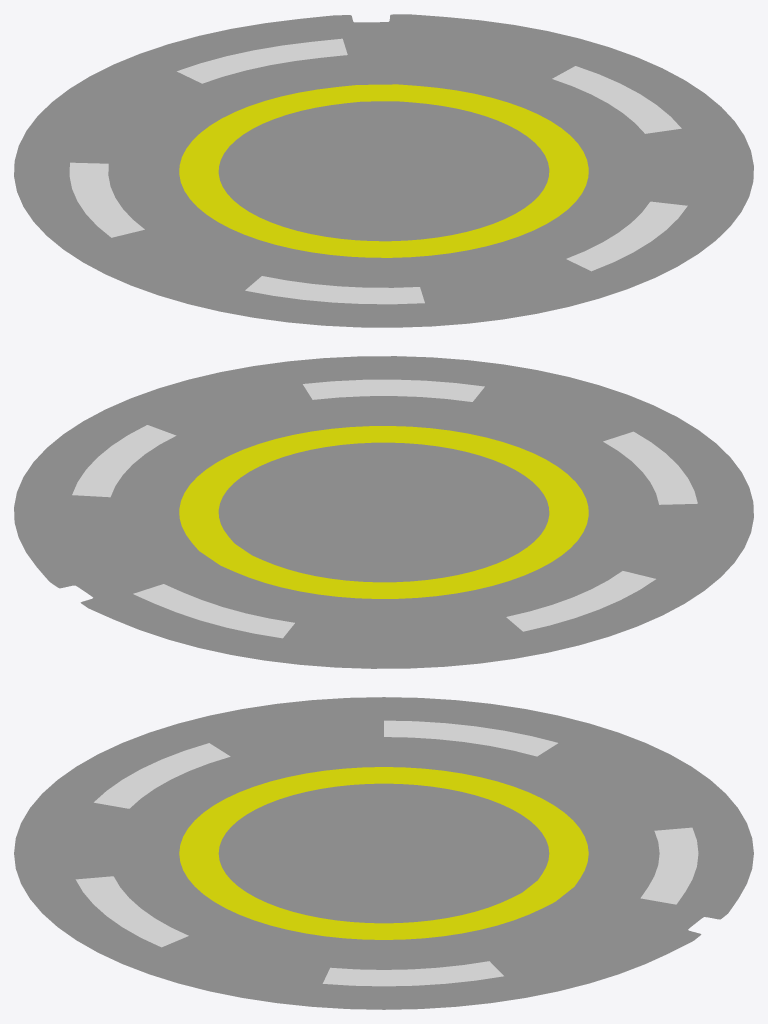
Rendered from Heliporto Ground Layer.fbx.
3 views of the same model, one above another, from view 1: azimuth 30°, elevation 25°; view 2: azimuth 150°, elevation 25°; view 3: azimuth 270°, elevation 25° (orthographic).
Parts seen in each view (by area): view 1: Heliporto Ground Layer; view 2: Heliporto Ground Layer; view 3: Heliporto Ground Layer.
Part boxes in pixels (left/top/right/bottom): Heliporto Ground Layer: left=14, top=14, right=753, bottom=327; Heliporto Ground Layer: left=14, top=356, right=753, bottom=668; Heliporto Ground Layer: left=14, top=697, right=753, bottom=1009.
Size of the model in its own units: 123 by 2.01e-05 by 123.
